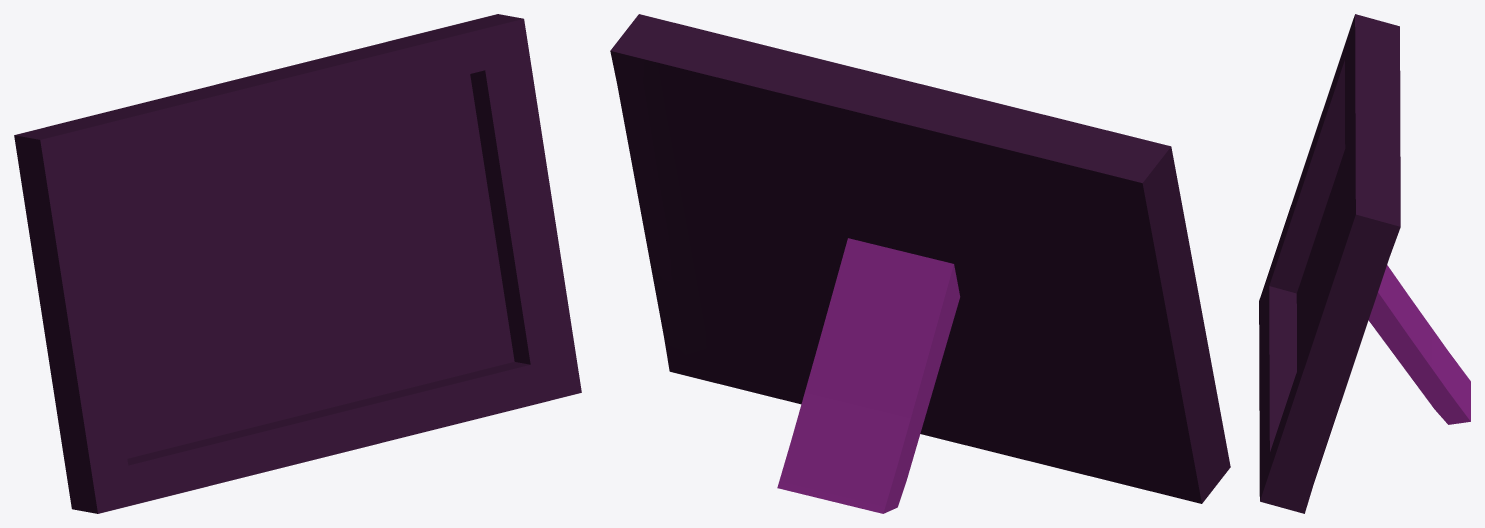
The model's file is landscape_painted.fbx.
3 renders of one model, left to right at view 1: azimuth 30°, elevation 25°; view 2: azimuth 150°, elevation 25°; view 3: azimuth 270°, elevation 25°, orthographic. The views are drawn at different scales.
Parts seen in each view (by area): view 1: landscape_low; view 2: landscape_low, landscape_stand_low; view 3: landscape_low, landscape_stand_low.
Part boxes in pixels (bbox=[...]): landscape_low: bbox=[14, 14, 581, 513]; landscape_low: bbox=[610, 14, 1230, 503]; landscape_stand_low: bbox=[777, 238, 960, 513]; landscape_low: bbox=[1259, 14, 1400, 513]; landscape_stand_low: bbox=[1368, 265, 1470, 424].
Size of the model in its own units: 7.39 by 5.09 by 3.25.
